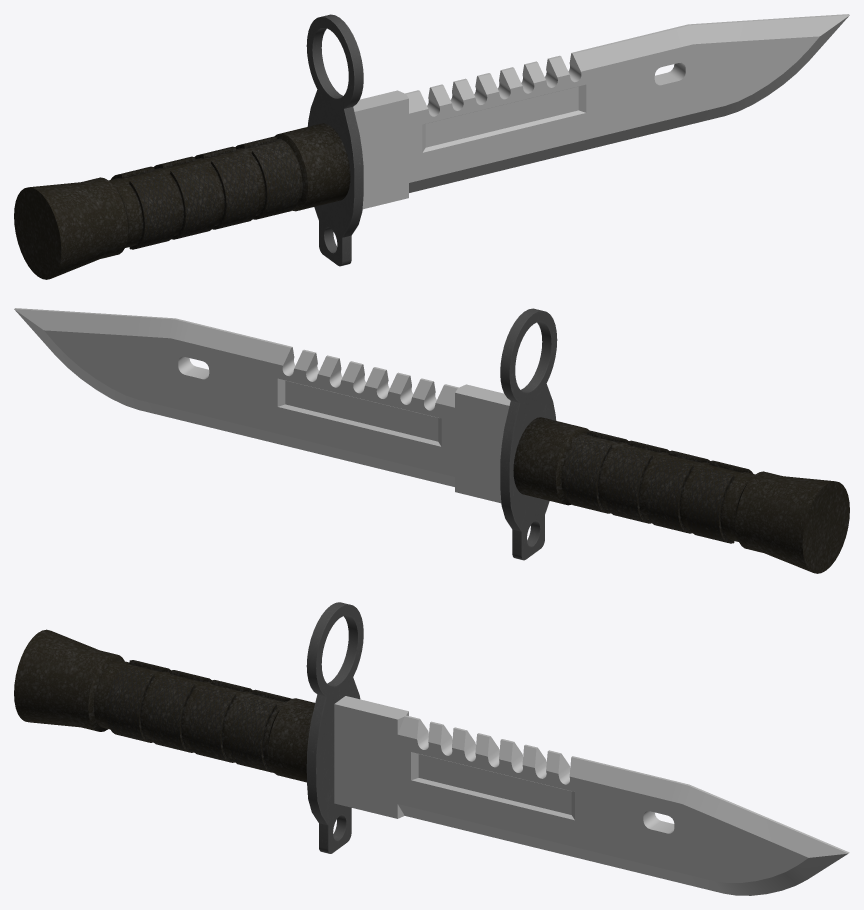
The model's file is m9_bayonet.glb.
3 renders of one model, top to bottom at view 1: azimuth 30°, elevation 25°; view 2: azimuth 150°, elevation 25°; view 3: azimuth 330°, elevation 25°, orthographic.
Parts seen in each view (by area): view 1: knife_m9; view 2: knife_m9; view 3: knife_m9.
Boxes of the visible parts, <box> form: knife_m9: <box>14,14,849,279</box>; knife_m9: <box>14,308,849,573</box>; knife_m9: <box>14,602,849,895</box>.
Size of the model in its own units: 8.64 by 2.44 by 0.8804.
1 material, 1 textured.
